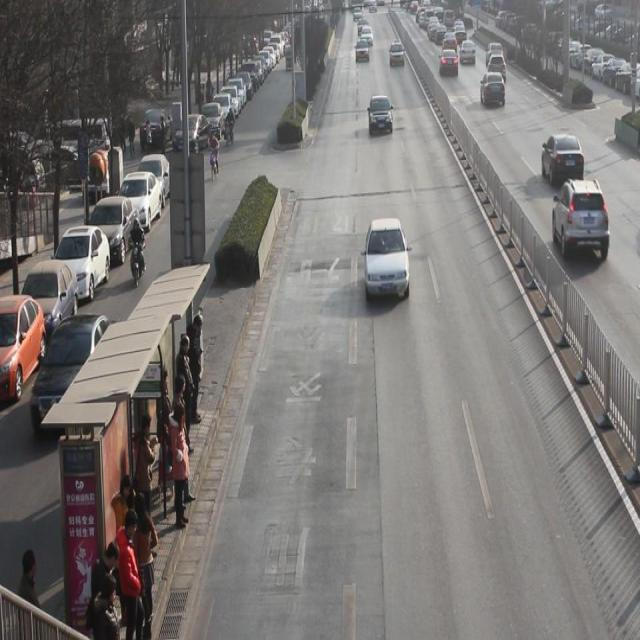car: (31, 313, 121, 436), (552, 176, 610, 258), (365, 216, 410, 300), (542, 132, 585, 184), (369, 93, 393, 136), (481, 72, 506, 108), (440, 46, 459, 75), (390, 41, 406, 68), (488, 52, 507, 72), (461, 39, 476, 63), (485, 41, 503, 60), (356, 37, 370, 61), (361, 24, 374, 47)
